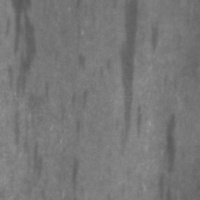inclusion: (8, 0, 33, 161), (117, 1, 144, 137), (155, 111, 181, 199), (27, 138, 51, 186), (67, 155, 83, 199), (148, 16, 163, 56), (69, 86, 90, 113), (72, 50, 87, 72), (71, 118, 83, 144)
